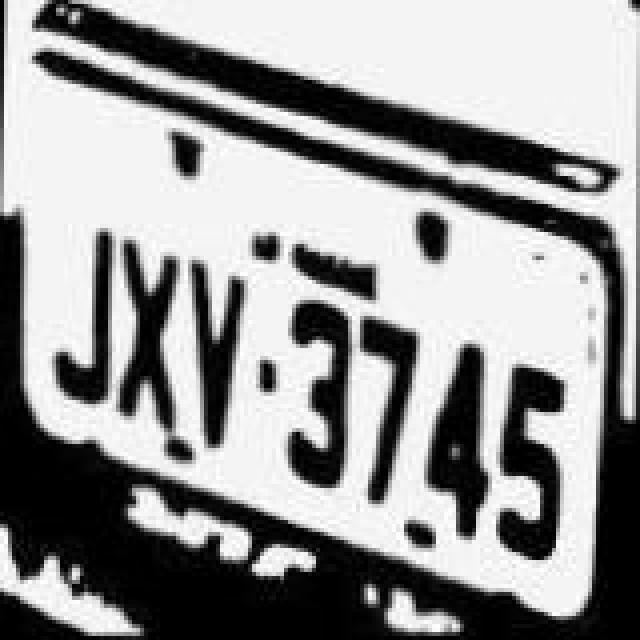3: (280, 298, 352, 502)
4: (424, 316, 496, 540)
5: (492, 336, 572, 572)
7: (354, 308, 422, 536)
J: (42, 184, 114, 408)
V: (182, 256, 254, 456)
X: (114, 210, 186, 438)
